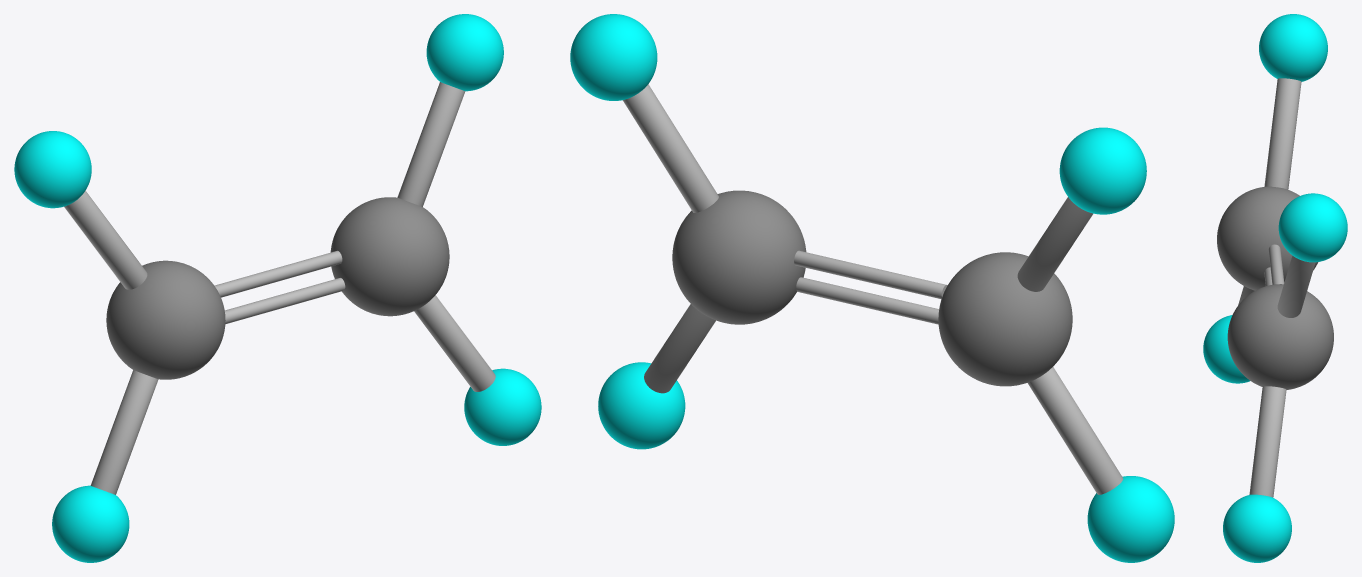
File: ethylene.glb
The picture shows the model from 3 angles, left to right: view 1: azimuth 30°, elevation 25°; view 2: azimuth 150°, elevation 25°; view 3: azimuth 270°, elevation 25°; orthographic projection. The views are drawn at different scales.
Parts seen in each view (by area): view 1: CMAtom_1, CMAtom_0, CMAtom_2, CMAtom_5, CMAtom_3, CMAtom_4, CMBond_6_Segment_0, CMBond_4_Segment_0, CMBond_3_Segment_0, CMBond_5_Segment_0, CMBond_2_Segment_0, CMBond_1_Segment_0; view 2: CMAtom_1, CMAtom_0, CMAtom_2, CMAtom_5, CMAtom_3, CMAtom_4, CMBond_6_Segment_0, CMBond_4_Segment_0, CMBond_3_Segment_0, CMBond_5_Segment_0, CMBond_2_Segment_0, CMBond_1_Segment_0; view 3: CMAtom_1, CMAtom_0, CMAtom_5, CMAtom_4, CMAtom_2, CMBond_3_Segment_0, CMBond_5_Segment_0, CMAtom_3, CMBond_6_Segment_0, CMBond_2_Segment_0.
Boxes of the visible parts, bbox=[...] form: CMAtom_1: bbox=[330, 197, 449, 316]; CMAtom_0: bbox=[106, 260, 225, 379]; CMAtom_2: bbox=[14, 131, 91, 208]; CMAtom_5: bbox=[426, 14, 503, 91]; CMAtom_3: bbox=[52, 485, 129, 562]; CMAtom_4: bbox=[464, 368, 541, 445]; CMBond_6_Segment_0: bbox=[397, 82, 465, 206]; CMBond_4_Segment_0: bbox=[90, 370, 158, 494]; CMBond_3_Segment_0: bbox=[64, 190, 147, 289]; CMBond_5_Segment_0: bbox=[414, 295, 495, 391]; CMBond_2_Segment_0: bbox=[214, 250, 342, 297]; CMBond_1_Segment_0: bbox=[224, 278, 345, 324]; CMAtom_1: bbox=[672, 190, 806, 324]; CMAtom_0: bbox=[938, 252, 1072, 386]; CMAtom_2: bbox=[1059, 127, 1146, 214]; CMAtom_5: bbox=[570, 14, 657, 100]; CMAtom_3: bbox=[1087, 476, 1174, 562]; CMAtom_4: bbox=[598, 362, 685, 449]; CMBond_6_Segment_0: bbox=[623, 84, 718, 212]; CMBond_4_Segment_0: bbox=[1027, 367, 1123, 494]; CMBond_3_Segment_0: bbox=[1017, 197, 1092, 291]; CMBond_5_Segment_0: bbox=[644, 304, 715, 393]; CMBond_2_Segment_0: bbox=[794, 250, 947, 299]; CMBond_1_Segment_0: bbox=[796, 277, 939, 324]; CMAtom_1: bbox=[1227, 284, 1333, 389]; CMAtom_0: bbox=[1217, 186, 1318, 290]; CMAtom_5: bbox=[1278, 193, 1347, 262]; CMAtom_4: bbox=[1223, 494, 1291, 562]; CMAtom_2: bbox=[1259, 14, 1327, 81]; CMBond_3_Segment_0: bbox=[1264, 78, 1301, 189]; CMBond_5_Segment_0: bbox=[1249, 386, 1286, 497]; CMAtom_3: bbox=[1203, 315, 1249, 383]; CMBond_6_Segment_0: bbox=[1277, 255, 1315, 317]; CMBond_2_Segment_0: bbox=[1268, 244, 1284, 284].
Bounding box in the file's own units: 2.97 × 2.33 × 0.837.
